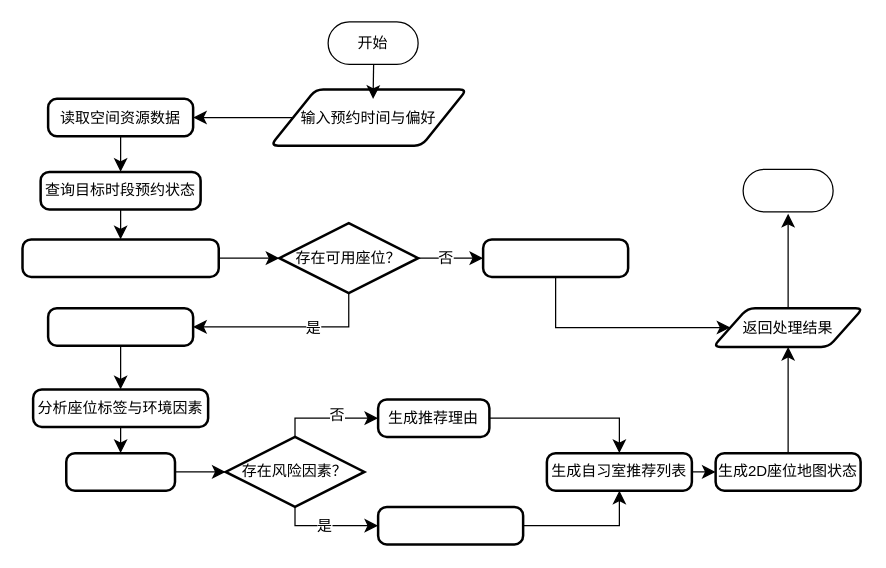
The diagram is 886 pixels wide and 568 high, and some of its shapes have lost their labels. Here are the shapes that lost their labels. From the top down, the centre of each, then its label:
At pixel 787 190: "结束".
At pixel 120 258: "过滤不可用座位和冲突座位".
At pixel 555 258: "返回无可用座位提示".
At pixel 120 326: "计算自习室空闲率".
At pixel 120 471: "计算推荐评分".
At pixel 450 525: "生成不推荐原因".
